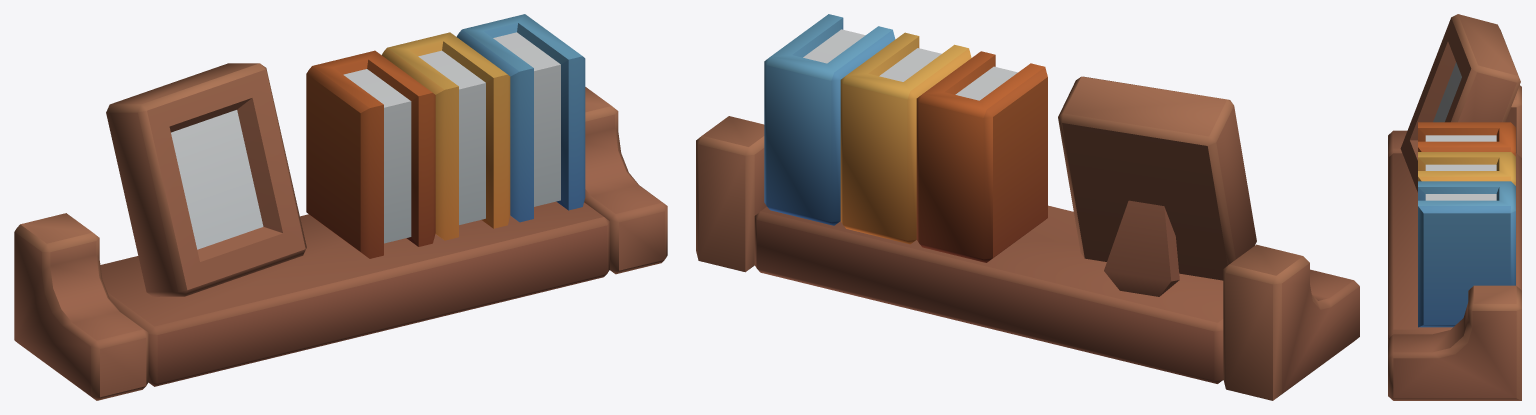
The model's file is K_shelf_B_large_decorated.glb.
3 views of the same model, side by side, from view 1: azimuth 30°, elevation 25°; view 2: azimuth 150°, elevation 25°; view 3: azimuth 270°, elevation 25° (orthographic). The views are drawn at different scales.
Visible parts, largest first — view 1: shelf_B_large_decorated; view 2: shelf_B_large_decorated; view 3: shelf_B_large_decorated.
Boxes of the visible parts, x1,y1,x2,y2 form: shelf_B_large_decorated: (14,14,667,400); shelf_B_large_decorated: (696,14,1359,400); shelf_B_large_decorated: (1388,14,1521,400).
Size of the model in its own units: 2 by 0.8175 by 0.5.
